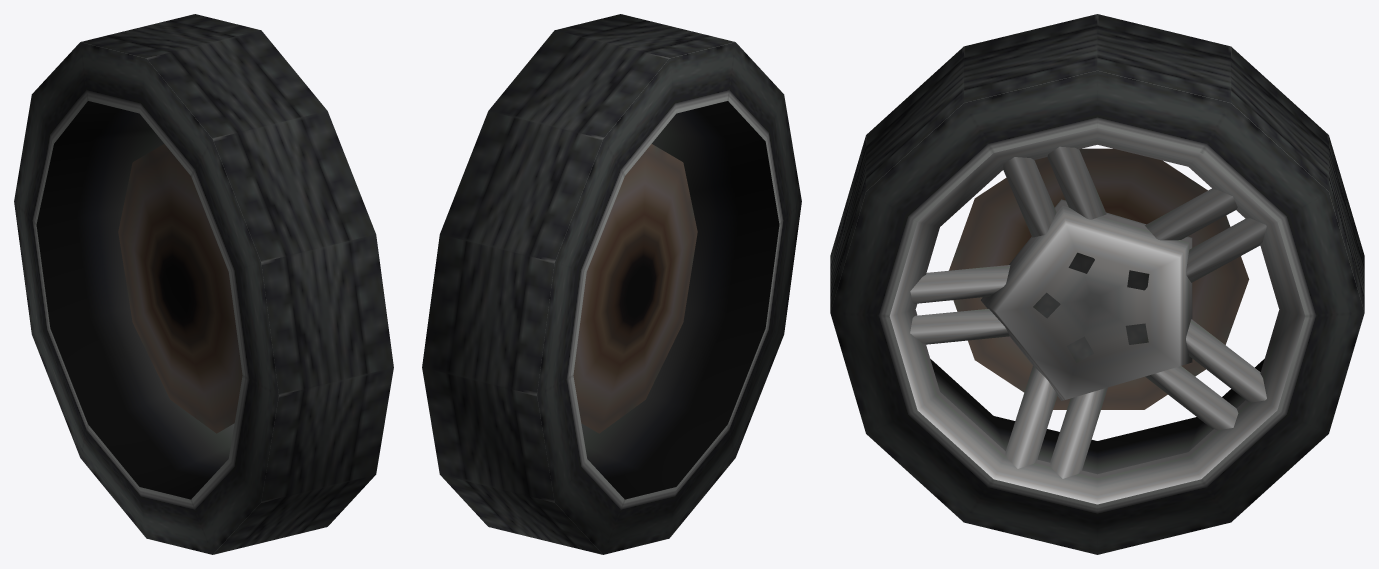
The model's file is wheel_gn4.glb.
The picture shows the model from 3 angles, left to right: view 1: azimuth 30°, elevation 25°; view 2: azimuth 150°, elevation 25°; view 3: azimuth 270°, elevation 25°; orthographic projection.
Visible parts, largest first — view 1: wheel_gn4; view 2: wheel_gn4; view 3: wheel_gn4.
Boxes of the visible parts, bbox=[...] form: wheel_gn4: bbox=[14, 14, 393, 554]; wheel_gn4: bbox=[422, 14, 801, 554]; wheel_gn4: bbox=[830, 14, 1364, 554].
Bounding box in the file's own units: 0.2764 × 0.9845 × 0.9845.
Materials: 3 (3 with a texture image).
